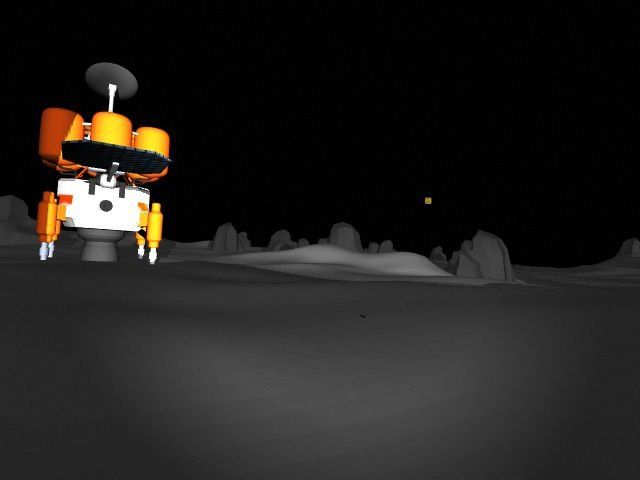homebase: (36, 60, 172, 267)
